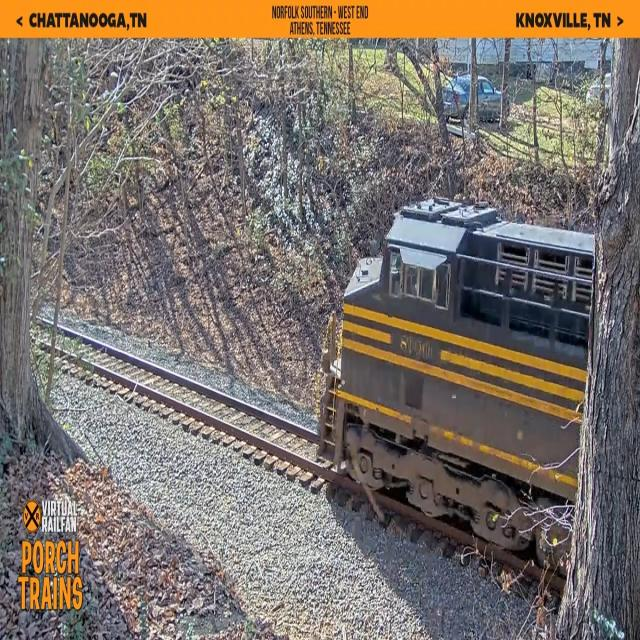locomotive: (313, 187, 598, 587)
